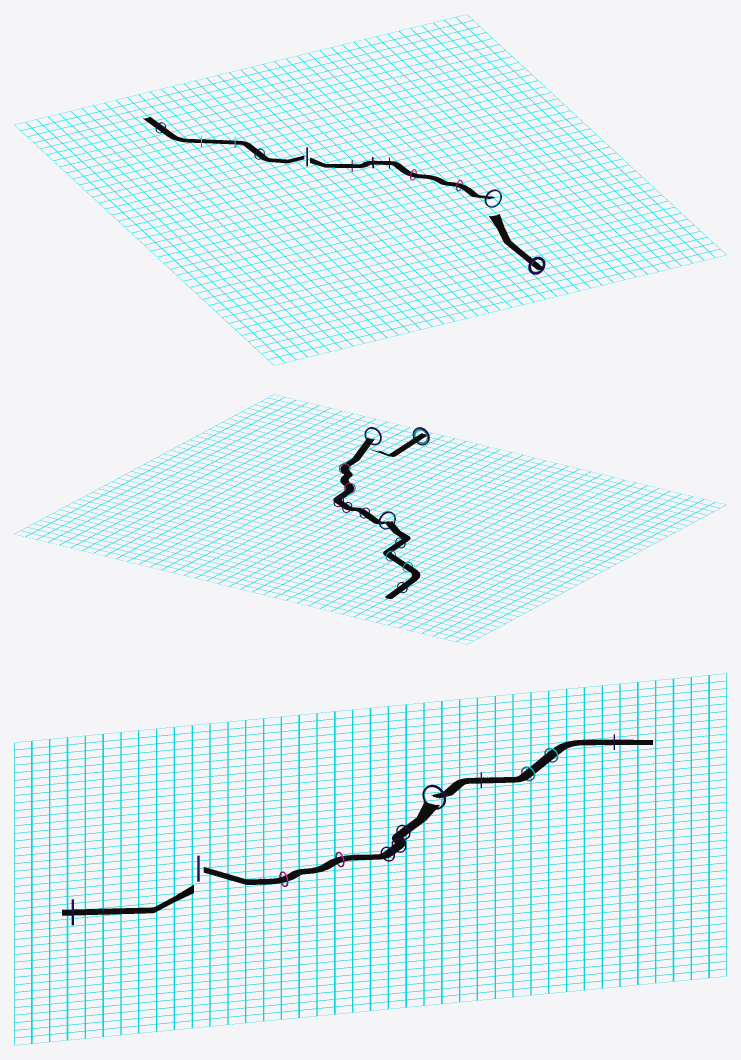
File: Track_Rings.FBX
The picture shows the model from 3 angles, top to bottom: view 1: azimuth 30°, elevation 25°; view 2: azimuth 150°, elevation 25°; view 3: azimuth 270°, elevation 25°; orthographic projection. The views are drawn at different scales.
Parts seen in each view (by area): view 1: Object130; view 2: Object130; view 3: Object130.
Part boxes in pixels (box(x1,y1,x2,y2)): Object130: box(14, 14, 726, 365); Object130: box(14, 394, 726, 644); Object130: box(14, 673, 726, 1045).
Bounding box in the file's own units: 100000 × 12599 × 99432.
